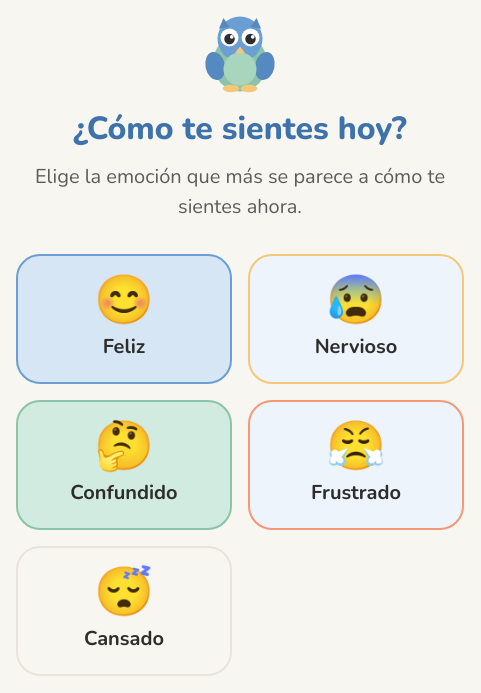
Scenario: EmotionSelector — fase selecting (sin emoción previa) › después de seleccionar Frustrado la primera sugerencia es Zona de calma
Click the text "Frustrado" at point(356, 493), box [311, 478, 401, 508]
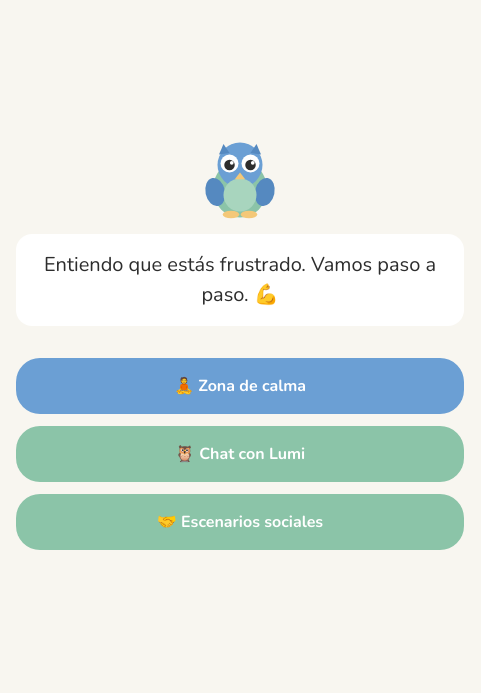
Expected: the text "Entiendo que estás frustrado. Vamos paso a paso. 💪" is shown, [16, 234, 464, 326]
Expected: the button "🧘 Zona de calma" is shown, [16, 358, 464, 414]
